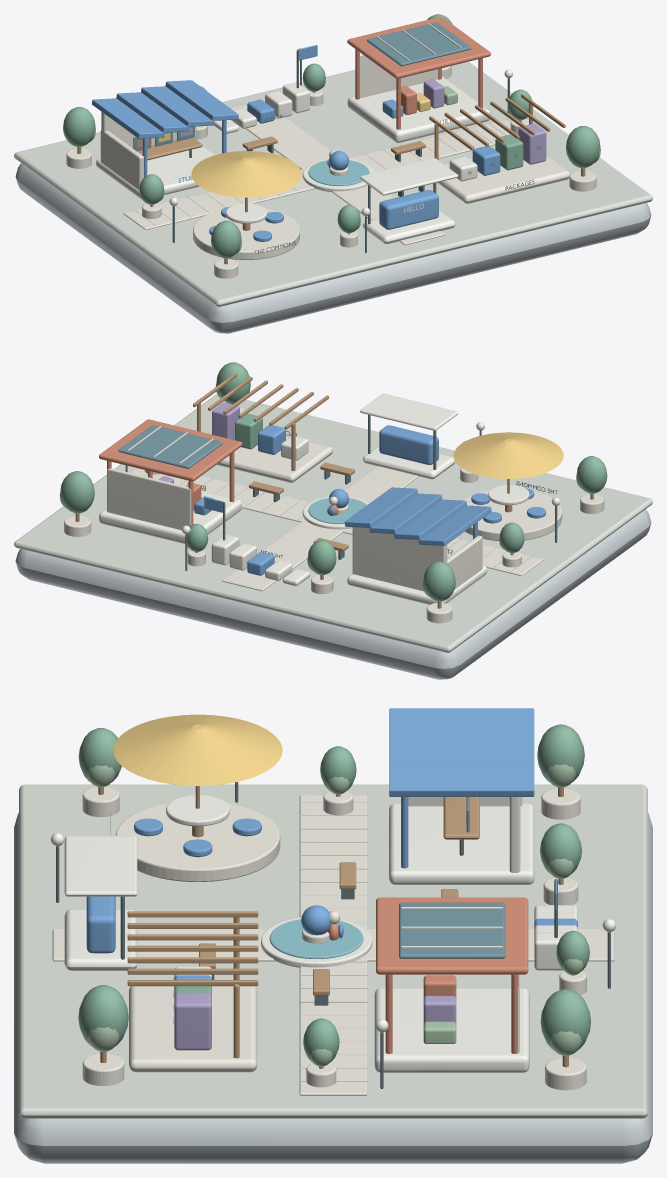
The model's file is veya-campus.glb.
3 views of the same model, one above another, from view 1: azimuth 30°, elevation 25°; view 2: azimuth 150°, elevation 25°; view 3: azimuth 270°, elevation 25° (orthographic). The views are drawn at different scales.
Visible parts, largest first — view 1: CAMPUS__Campus_paving, CAMPUS__Stone, CAMPUS__Warm_porcelain, services__Cornflower_enamel, CAMPUS__Canopy, about__Ochre, build__Terracotta, build__Chalk, contact__Chalk, pricing__Warm_porcelain, about__Warm_porcelain, build__Smoked_blue_glass (+19 smaller); view 2: CAMPUS__Campus_paving, CAMPUS__Stone, CAMPUS__Warm_porcelain, CAMPUS__Canopy, services__Cornflower_enamel, services__Warm_porcelain, about__Ochre, build__Warm_porcelain, build__Terracotta, contact__Chalk, build__Smoked_blue_glass, about__Warm_porcelain (+17 smaller); view 3: CAMPUS__Campus_paving, CAMPUS__Stone, CAMPUS__Warm_porcelain, services__Cornflower_enamel, CAMPUS__Canopy, build__Chalk, about__Ochre, services__Chalk, pricing__Warm_porcelain, build__Terracotta, about__Warm_porcelain, contact__Chalk (+18 smaller).
Boxes of the visible parts, left/top/right/bottom form: CAMPUS__Campus_paving: left=14, top=61, right=652, bottom=306; CAMPUS__Stone: left=15, top=119, right=651, bottom=333; CAMPUS__Warm_porcelain: left=66, top=66, right=596, bottom=278; services__Cornflower_enamel: left=92, top=80, right=238, bottom=182; CAMPUS__Canopy: left=63, top=14, right=600, bottom=258; about__Ochre: left=191, top=151, right=301, bottom=197; build__Terracotta: left=347, top=16, right=490, bottom=129; build__Chalk: left=347, top=76, right=490, bottom=142; contact__Chalk: left=360, top=158, right=458, bottom=243; pricing__Warm_porcelain: left=437, top=155, right=570, bottom=203; about__Warm_porcelain: left=193, top=208, right=299, bottom=259; build__Smoked_blue_glass: left=367, top=22, right=471, bottom=66; CAMPUS__Campus_paving: left=14, top=394, right=652, bottom=652; CAMPUS__Stone: left=15, top=474, right=651, bottom=679; CAMPUS__Warm_porcelain: left=64, top=407, right=604, bottom=623; CAMPUS__Canopy: left=60, top=362, right=607, bottom=601; services__Cornflower_enamel: left=344, top=487, right=491, bottom=554; services__Warm_porcelain: left=352, top=527, right=482, bottom=591; about__Ochre: left=453, top=432, right=563, bottom=478; build__Warm_porcelain: left=107, top=426, right=213, bottom=530; build__Terracotta: left=99, top=419, right=242, bottom=525; contact__Chalk: left=360, top=393, right=458, bottom=479; build__Smoked_blue_glass: left=118, top=425, right=222, bottom=468; about__Warm_porcelain: left=462, top=490, right=562, bottom=540; CAMPUS__Campus_paving: left=19, top=784, right=647, bottom=1118; CAMPUS__Stone: left=14, top=802, right=652, bottom=1163; CAMPUS__Warm_porcelain: left=52, top=786, right=614, bottom=1095; services__Cornflower_enamel: left=389, top=708, right=534, bottom=868; CAMPUS__Canopy: left=78, top=724, right=590, bottom=1062; build__Chalk: left=374, top=988, right=529, bottom=1072; about__Ochre: left=113, top=714, right=282, bottom=785; services__Chalk: left=389, top=803, right=534, bottom=884; pricing__Warm_porcelain: left=129, top=986, right=257, bottom=1072; build__Terracotta: left=376, top=897, right=528, bottom=1053; about__Warm_porcelain: left=115, top=803, right=280, bottom=881; contact__Chalk: left=64, top=836, right=137, bottom=970.
Size of the model in its own units: 16.2 by 4.16 by 13.2.
